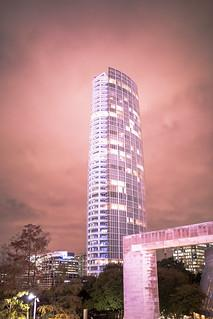building: (87, 64, 148, 279)
